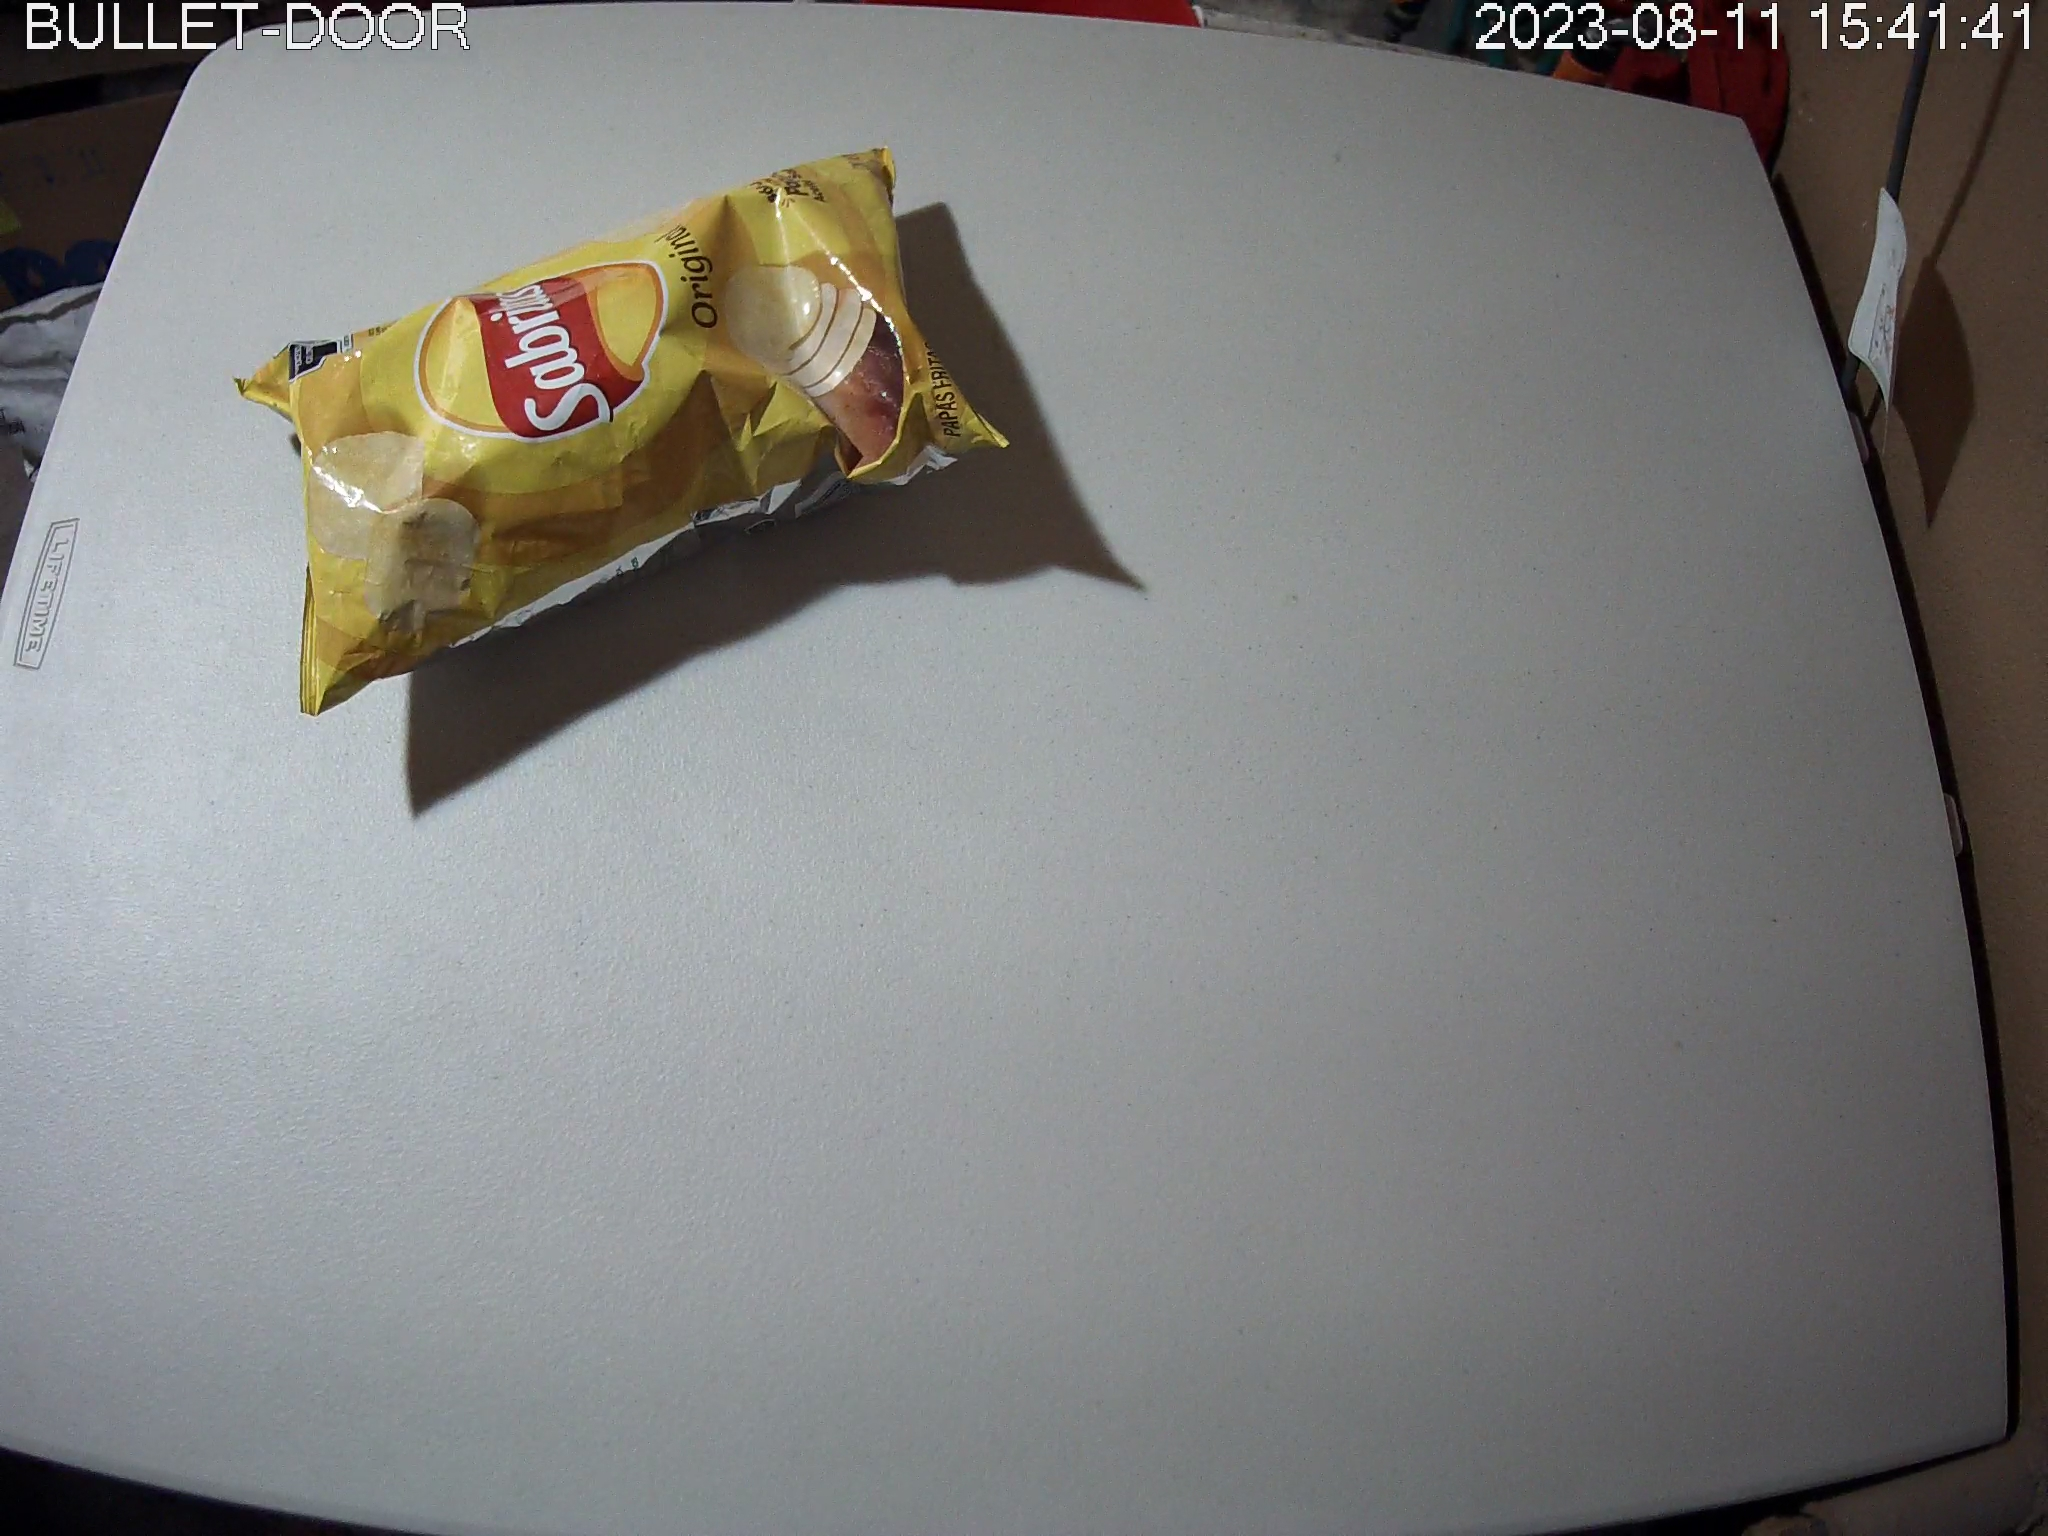Sabritas_160_F: (231, 145, 1016, 715)
